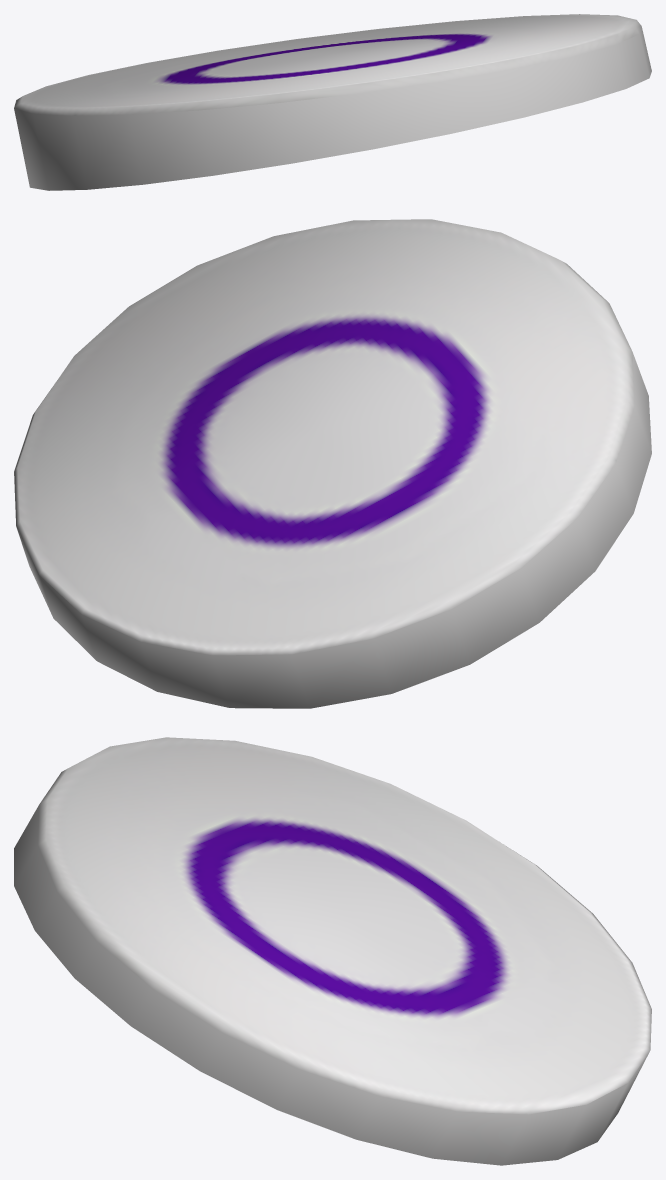
Rendered from right_home_button.obj.
3 renders of one model, top to bottom at view 1: azimuth 30°, elevation 25°; view 2: azimuth 150°, elevation 25°; view 3: azimuth 270°, elevation 25°, orthographic. The views are drawn at different scales.
Visible parts, largest first — view 1: right_home_button; view 2: right_home_button; view 3: right_home_button.
Boxes of the visible parts, x1=… form: right_home_button: x1=14, y1=14, x2=651, y2=190; right_home_button: x1=14, y1=219, x2=651, y2=708; right_home_button: x1=14, y1=737, x2=651, y2=1165.
Size of the model in its own units: 0.00965 by 0.00456 by 0.00941.
1 material, 1 textured.
